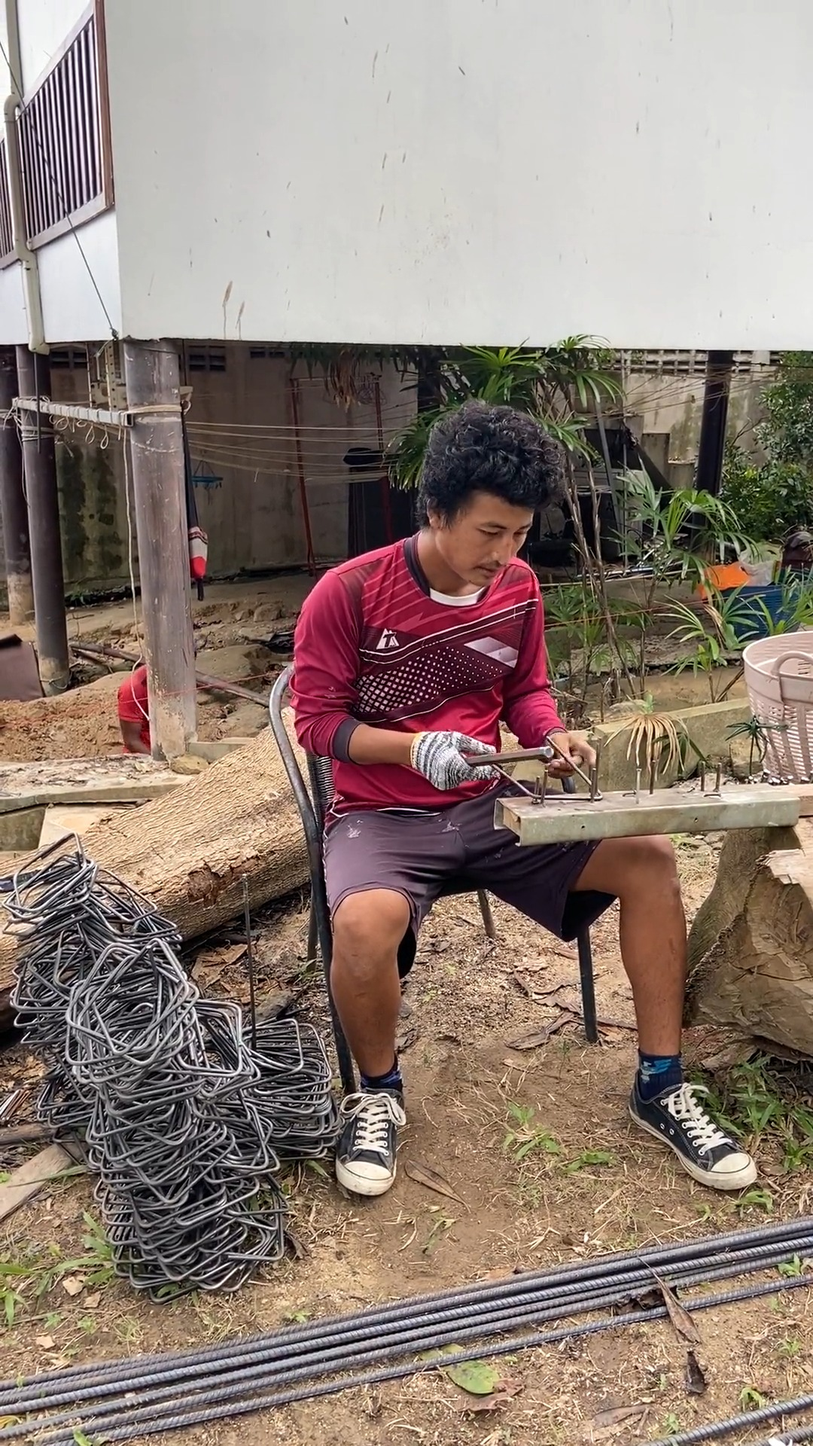No-gloves: (542, 731, 638, 783)
gloves: (406, 720, 509, 795)
